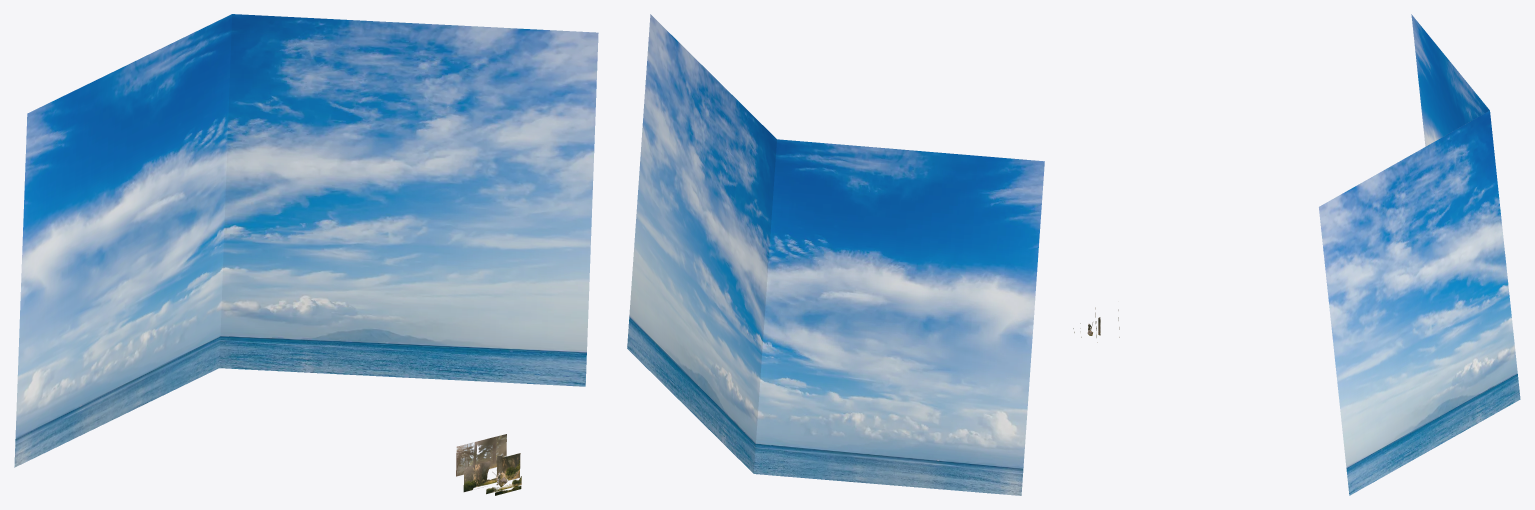
3 views of the same model, side by side, from view 1: azimuth 30°, elevation 25°; view 2: azimuth 150°, elevation 25°; view 3: azimuth 270°, elevation 25° (orthographic). The views are drawn at different scales.
Parts seen in each view (by area): view 1: Plane; view 2: Plane; view 3: Plane.
Part boxes in pixels (x1,y1,x2,y2): Plane: [14, 14, 598, 495]; Plane: [627, 14, 1044, 495]; Plane: [1073, 14, 1520, 495].
Size of the model in its own units: 84.74 by 57.86 by 81.86.
7 materials, 7 textured.
